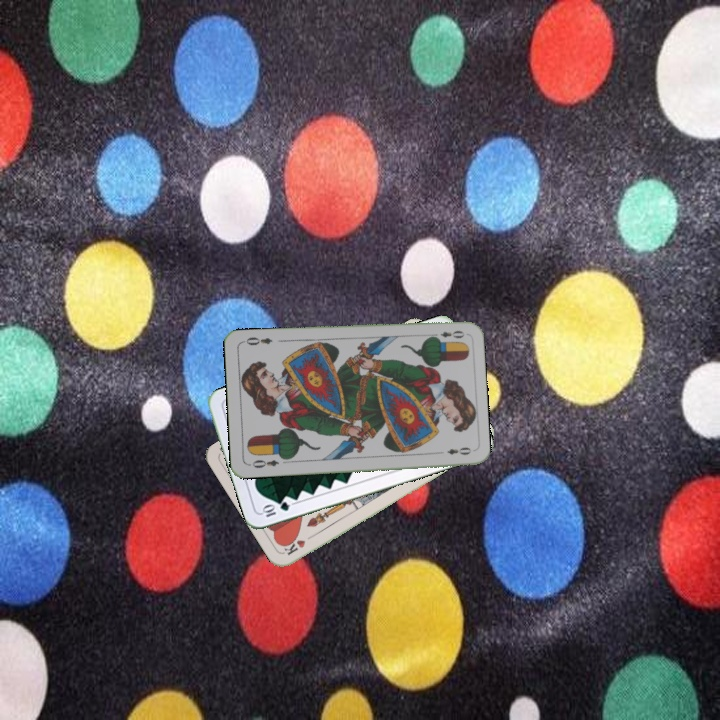EO: (427, 327, 467, 342), (245, 455, 281, 471)
G10: (258, 498, 292, 520)
HK: (281, 529, 318, 558)
